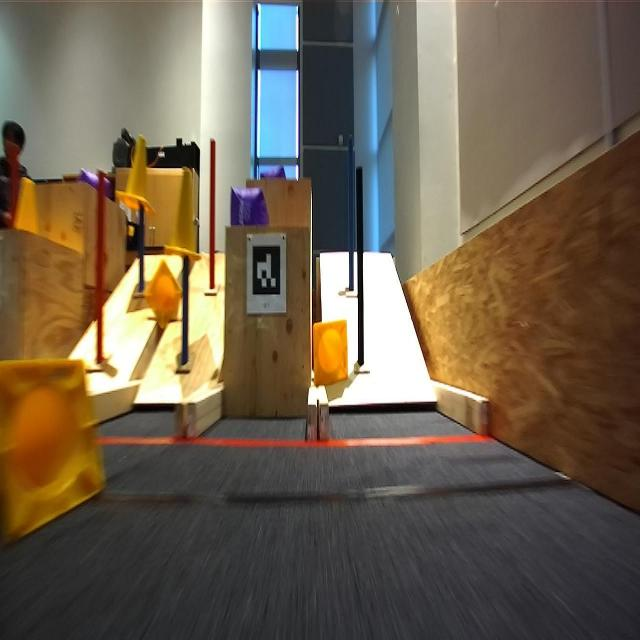frc_cone: (0, 352, 106, 560), (163, 167, 201, 261), (115, 129, 154, 212), (311, 316, 351, 392), (143, 256, 182, 332), (15, 174, 41, 233)
frc_cube: (226, 178, 269, 228), (75, 167, 100, 190), (259, 161, 287, 180)
